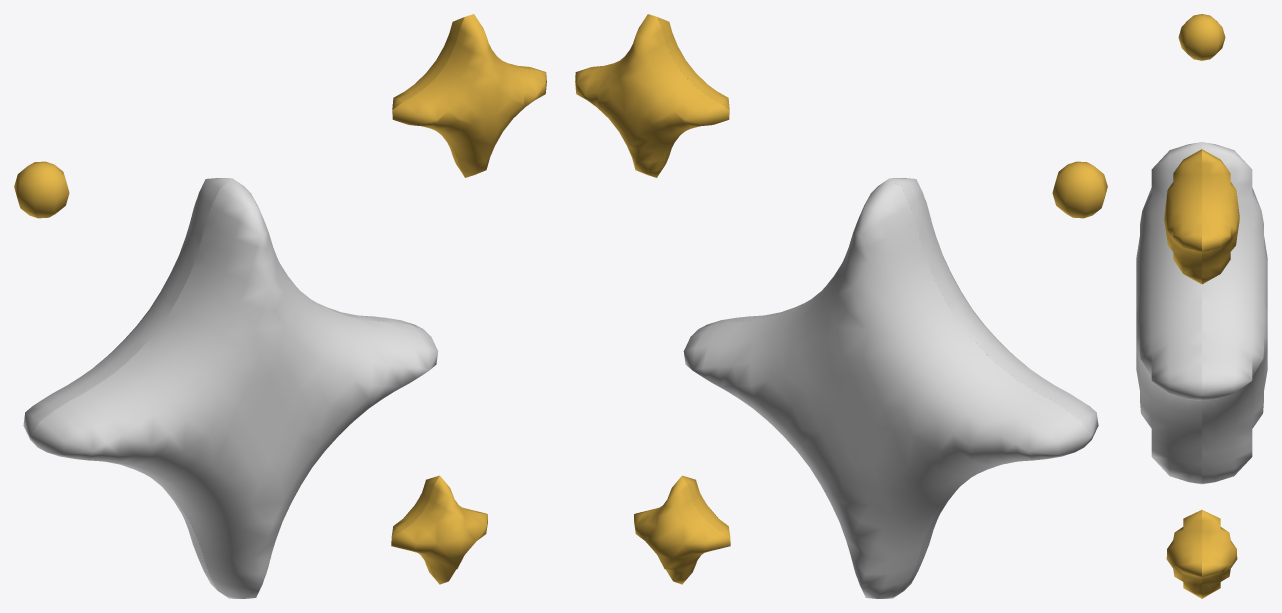
The model's file is sparkles_small.glb.
The picture shows the model from 3 angles, left to right: view 1: azimuth 30°, elevation 25°; view 2: azimuth 150°, elevation 25°; view 3: azimuth 270°, elevation 25°; orthographic projection. The views are drawn at different scales.
Parts seen in each view (by area): view 1: sparkles_small; view 2: sparkles_small; view 3: sparkles_small.
Part boxes in pixels (<box>): sparkles_small: <box>14,14,546,598</box>; sparkles_small: <box>575,14,1107,598</box>; sparkles_small: <box>1136,14,1267,598</box>.
Bounding box in the file's own units: 0.9863 × 1 × 0.2592.
